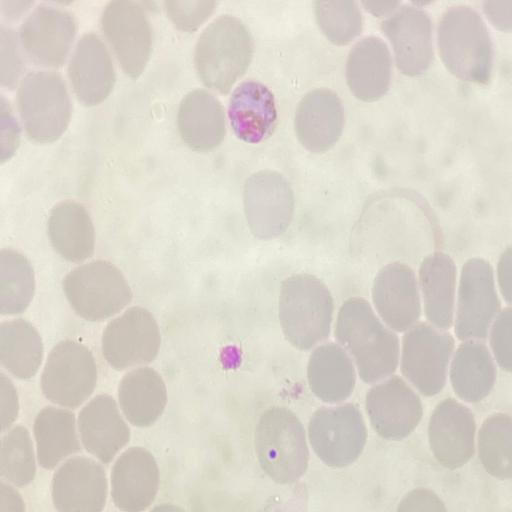Infected: (229, 81, 277, 142)
Uninfected: (335, 298, 397, 382), (278, 270, 336, 348), (437, 6, 494, 83), (62, 260, 132, 322), (192, 17, 252, 89), (101, 1, 156, 78), (16, 70, 73, 143), (254, 409, 309, 483), (102, 304, 161, 370), (308, 402, 367, 468), (41, 340, 99, 406), (453, 256, 498, 340), (242, 171, 297, 239), (382, 7, 434, 77), (19, 6, 77, 68), (400, 325, 451, 395), (371, 262, 420, 331), (78, 394, 129, 460), (68, 35, 116, 105), (428, 399, 476, 468), (293, 89, 344, 153), (46, 200, 98, 262), (343, 37, 394, 100), (304, 343, 356, 404), (366, 380, 419, 439), (176, 90, 226, 152), (419, 254, 459, 331), (33, 407, 82, 469), (109, 450, 160, 509), (51, 457, 107, 509), (449, 340, 495, 402), (118, 369, 166, 426), (0, 318, 42, 380), (0, 250, 37, 317), (477, 411, 510, 478), (314, 1, 363, 45), (1, 425, 36, 485)
